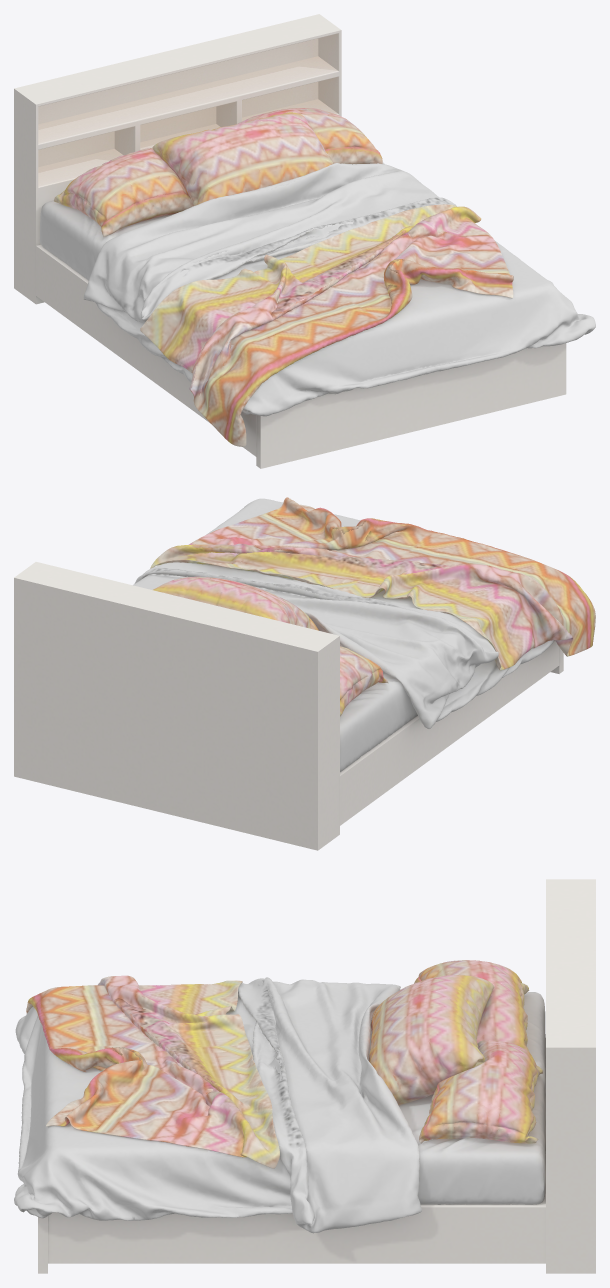
The model's file is bed.glb.
3 renders of one model, top to bottom at view 1: azimuth 30°, elevation 25°; view 2: azimuth 150°, elevation 25°; view 3: azimuth 270°, elevation 25°, orthographic. The views are drawn at different scales.
Visible parts, largest first — view 1: Object_7, Object_4, Object_3, Object_2, Object_5, Object_6, Object_8; view 2: Object_3, Object_4, Object_7, Object_5, Object_6, Object_8; view 3: Object_7, Object_3, Object_4, Object_8, Object_5, Object_6.
Boxes of the visible parts, bbox=[...] form: Object_7: bbox=[84, 163, 595, 416]; Object_4: bbox=[36, 30, 512, 446]; Object_3: bbox=[14, 14, 566, 468]; Object_2: bbox=[38, 32, 339, 187]; Object_5: bbox=[140, 207, 513, 446]; Object_6: bbox=[88, 204, 513, 446]; Object_8: bbox=[40, 162, 595, 425]; Object_3: bbox=[14, 562, 563, 850]; Object_4: bbox=[150, 505, 595, 716]; Object_7: bbox=[133, 498, 554, 728]; Object_5: bbox=[156, 499, 595, 670]; Object_6: bbox=[145, 497, 595, 714]; Object_8: bbox=[133, 501, 582, 771]; Object_7: bbox=[14, 977, 421, 1233]; Object_3: bbox=[38, 879, 595, 1273]; Object_4: bbox=[31, 960, 543, 1168]; Object_8: bbox=[15, 976, 545, 1232]; Object_5: bbox=[26, 976, 270, 1159]; Object_6: bbox=[16, 975, 359, 1168].
Bounding box in the file's own units: 199 × 100 × 233.
2 materials, 2 textured.
